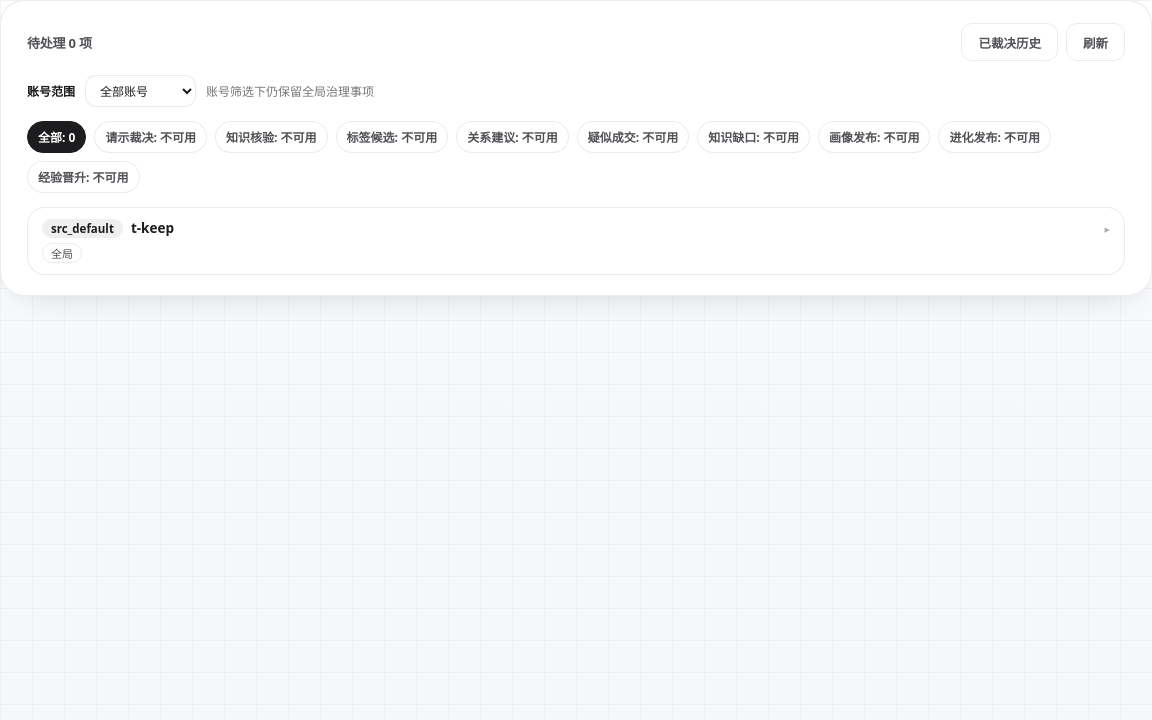
Test case: AskHumanView 单数据源 › 降级一致：刷新失败时 fatalError 横幅出现且列表仍显旧数据（不走 error 短路）
Expected: the text "t-keep" is shown, [131,219,174,237]
Click the button "刷新" at (1096, 42), box [1066,23,1125,61]
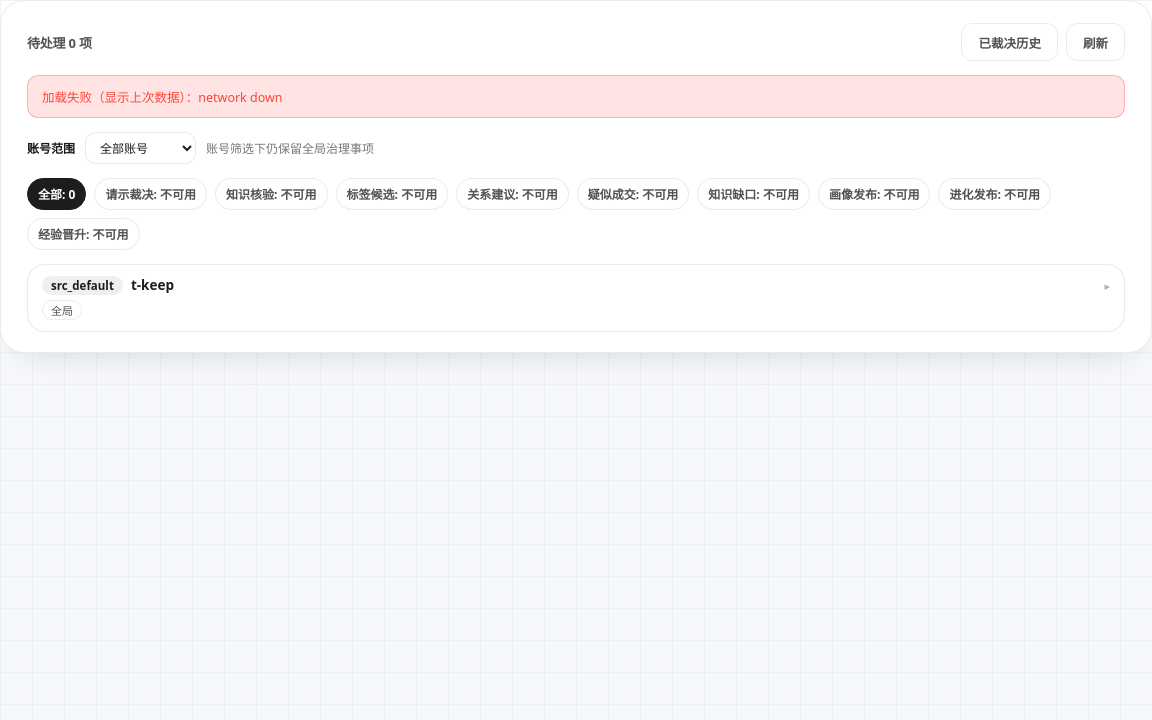
Expected: the text "t-keep" is shown, [131,276,174,294]
Expected: the text "加载失败（显示上次数据）：network down" is shown, [27,75,1125,118]
